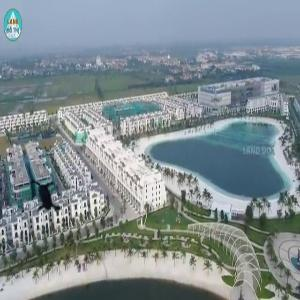drone: (13, 168, 75, 230)
